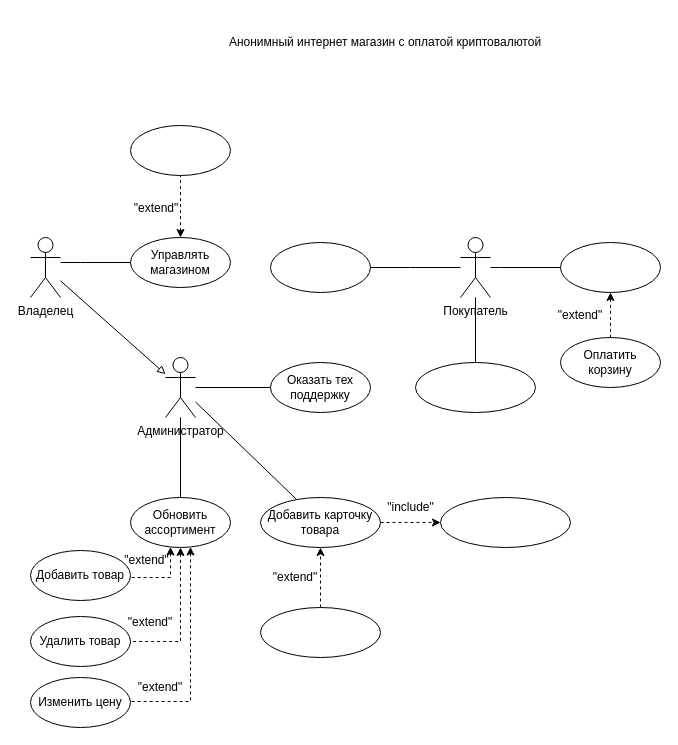
Some shapes in this 678 by 745 pixel diagram are drawn without their labels. The shapes that lost their labels are listed below. From the top down, each one's centre as x and y in pixels, then its label:
At pixel 180 150: "Тех. обслуживание".
At pixel 320 267: "Открыть каталог".
At pixel 610 267: "Посмотреть корзину".
At pixel 475 387: "Обратиться в тех поддержку".
At pixel 505 522: "Задать название/описание товара".
At pixel 320 632: "Прикрепить фотографию товара".
